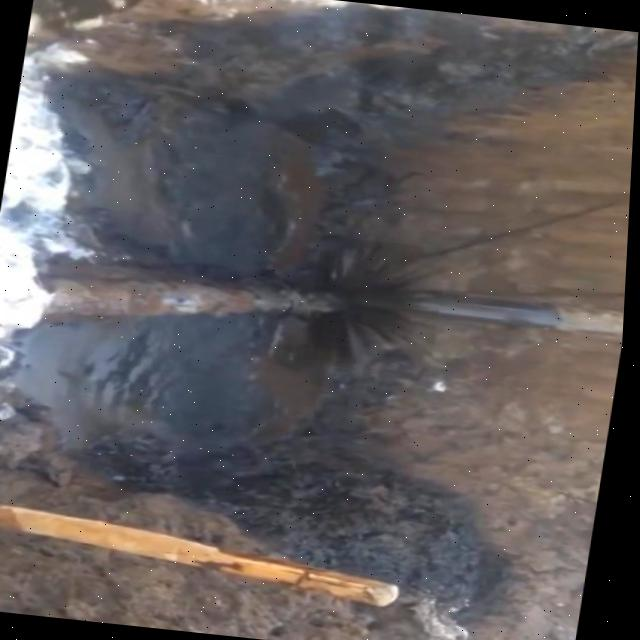spillage: (0, 80, 360, 478), (306, 235, 450, 371)
